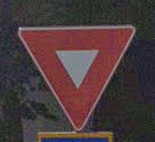cedeaza: (16, 22, 137, 133)
